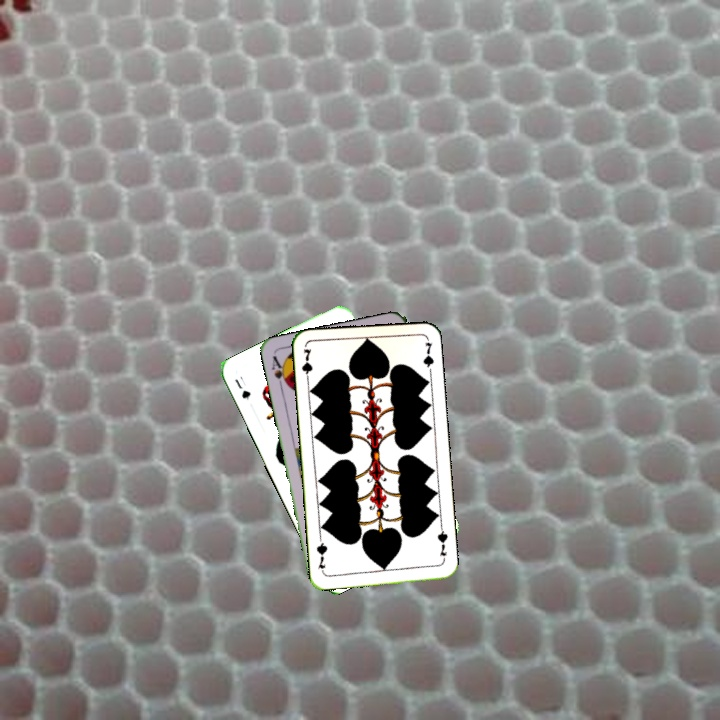G7: (298, 345, 315, 385), (433, 524, 450, 559)
GU: (231, 375, 253, 402)
SA: (267, 352, 291, 392)
